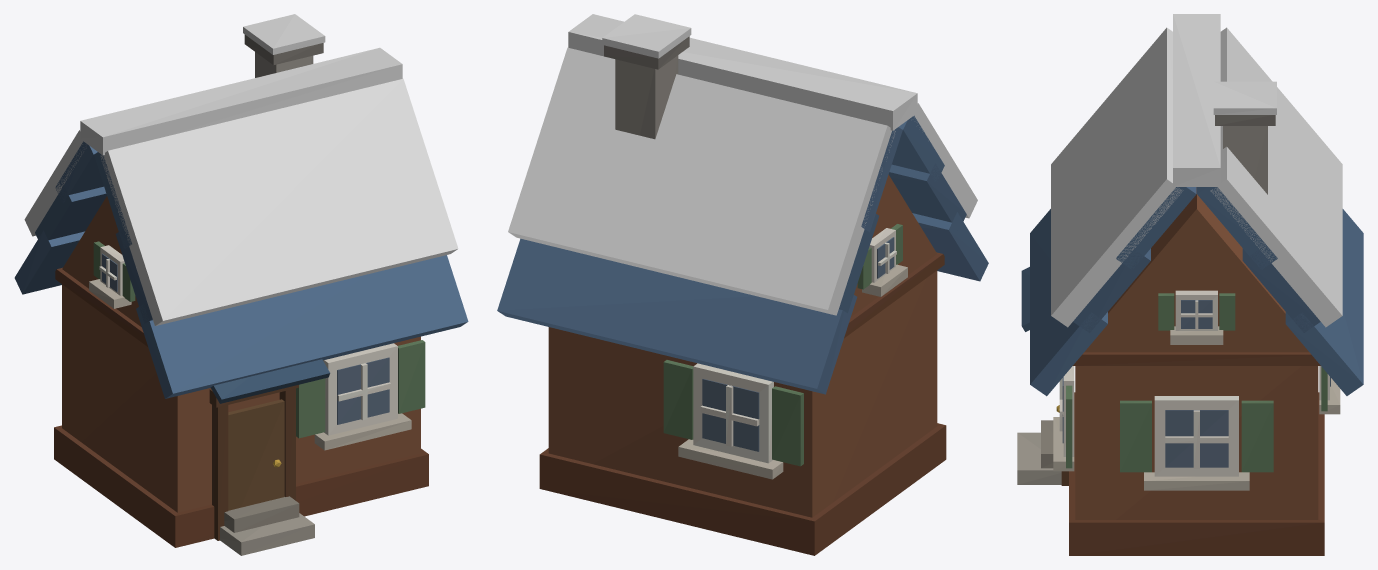
File: maison-neige.glb
3 renders of one model, left to right at view 1: azimuth 30°, elevation 25°; view 2: azimuth 150°, elevation 25°; view 3: azimuth 270°, elevation 25°, orthographic. The views are drawn at different scales.
Size of the model in its own units: 4.99 by 6.5 by 4.75.
